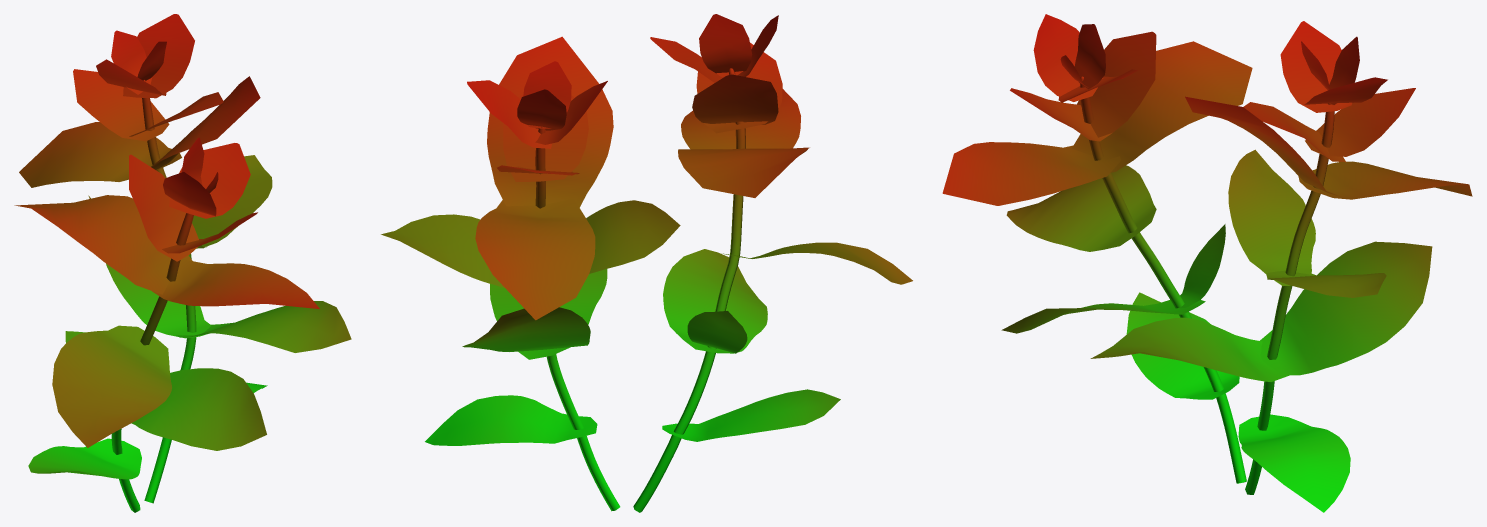
Rendered from Rubber Bush_LOD1_Var7_xffhfekia.fbx.
3 renders of one model, left to right at view 1: azimuth 30°, elevation 25°; view 2: azimuth 150°, elevation 25°; view 3: azimuth 270°, elevation 25°, orthographic. The views are drawn at different scales.
Parts seen in each view (by area): view 1: _krll_Var7_LOD1; view 2: _krll_Var7_LOD1; view 3: _krll_Var7_LOD1.
Boxes of the visible parts, x1,y1,x2,y2 form: _krll_Var7_LOD1: [14, 14, 351, 512]; _krll_Var7_LOD1: [381, 14, 912, 512]; _krll_Var7_LOD1: [942, 14, 1472, 512].
Bounding box in the file's own units: 35.16 × 43.02 × 43.96.
